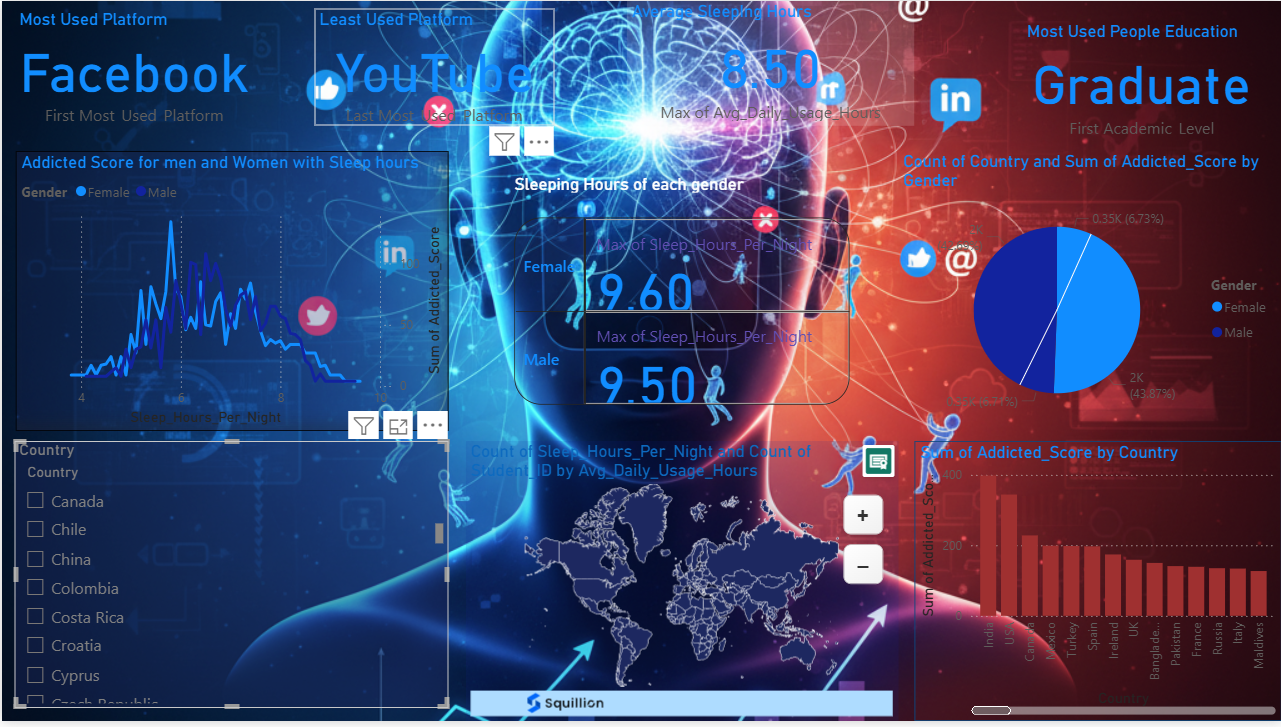

The page's visual inventory and layout, read from the dashboard file:
{"tool":"powerbi","page":{"name":"Page 1","canvas":[1280,720],"ordinal":0},"visuals":[{"type":"lineChart","title":"Addicted Score for men and Women with Sleep hours","fields":{"Category":["Students Social Media Addiction.Sleep_Hours_Per_Night"],"Series":["Students Social Media Addiction.Gender"],"Y2":["Sum(Students Social Media Addiction.Addicted_Score)"]},"box":[13.8,150,432.5,280],"z":0},{"type":"slicer","title":"Country","fields":{"Values":["Students Social Media Addiction.Country"]},"box":[12.5,440,433.8,267.5],"z":1000},{"type":"MapBySquillion","fields":{"category":["Students Social Media Addiction.Avg_Daily_Usage_Hours","Students Social Media Addiction.Addicted_Score"],"bubble":["CountNonNull(Students Social Media Addiction.Student_ID)"],"value":["CountNonNull(Students Social Media Addiction.Sleep_Hours_Per_Night)"]},"box":[463.8,440,432.5,280],"z":2000},{"type":"clusteredColumnChart","fields":{"Y":["Sum(Students Social Media Addiction.Addicted_Score)"],"Category":["Students Social Media Addiction.Country"]},"box":[912.5,440,367.5,280],"z":3000},{"type":"pieChart","fields":{"Category":["Students Social Media Addiction.Gender"],"Y":["CountNonNull(Students Social Media Addiction.Country)","Sum(Students Social Media Addiction.Addicted_Score)"]},"box":[896.2,150,383.8,280],"z":4000},{"type":"card","title":"Most Used Platform","fields":{"Values":["Min(Students Social Media Addiction.Most_Used_Platform)"]},"box":[12.5,7.5,240,117.5],"z":5000},{"type":"card","title":"Most Used People Education","fields":{"Values":["Min(Students Social Media Addiction.Academic_Level)"]},"box":[1020,20,240,117.5],"z":6000},{"type":"cardVisual","title":"Sleeping Hours of each gender","fields":{"Rows":["Students Social Media Addiction.Gender"],"Data":["Max(Students Social Media Addiction.Sleep_Hours_Per_Night)"]},"box":[507.5,172.5,345,257.5],"z":7000},{"type":"card","title":"Average SleepIng Hours","fields":{"Values":["Max(Students Social Media Addiction.Avg_Daily_Usage_Hours)"]},"box":[625,0,287.5,125],"z":7001},{"type":"card","title":"Least  Used Platform","fields":{"Values":["Max(Students Social Media Addiction.Most_Used_Platform)"]},"box":[312.5,7.5,240,117.5],"z":7002}]}

Visuals, with their boxes in screenshot pixels (x1, y1, x2, y2), scaled from the page's 1280x720 canvas onto the 1281x727 screenshot:
"Addicted Score for men and Women with Sleep hours" lineChart: x1=14 y1=151 x2=447 y2=434
"Country" slicer: x1=13 y1=444 x2=447 y2=714
MapBySquillion - Students Social Media Addiction.Avg_Daily_Usage_Hours x Students Social Media Addiction.Addicted_Score: x1=464 y1=444 x2=897 y2=726
clusteredColumnChart - Sum(Students Social Media Addiction.Addicted_Score) x Students Social Media Addiction.Country: x1=913 y1=444 x2=1280 y2=726
pieChart - Students Social Media Addiction.Gender x CountNonNull(Students Social Media Addiction.Country): x1=897 y1=151 x2=1280 y2=434
"Most Used Platform" card: x1=13 y1=8 x2=253 y2=126
"Most Used People Education" card: x1=1021 y1=20 x2=1261 y2=139
"Sleeping Hours of each gender" cardVisual: x1=508 y1=174 x2=853 y2=434
"Average SleepIng Hours" card: x1=625 y1=0 x2=913 y2=126
"Least  Used Platform" card: x1=313 y1=8 x2=553 y2=126
